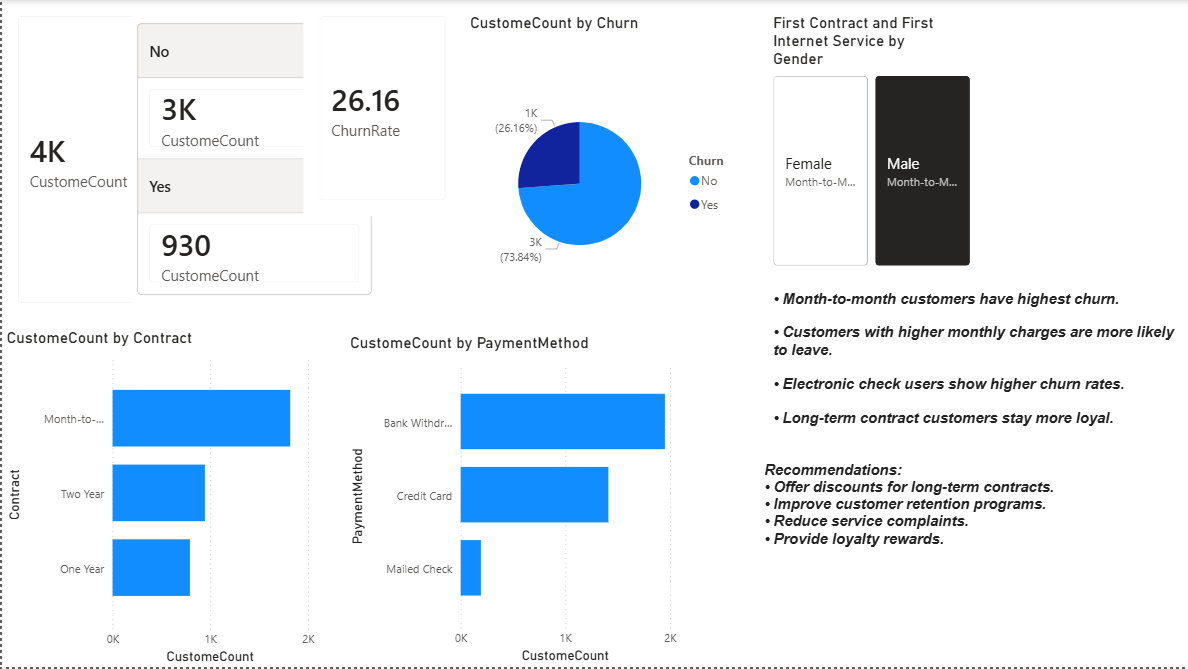

What the dashboard file says about the page in this screenshot:
{"tool":"powerbi","page":{"name":"Page 1","canvas":[1280,720],"ordinal":0},"visuals":[{"type":"cardVisual","fields":{"Data":["cleaned_churn_data.CustomeCount"]},"box":[0,0,280.1,344.9],"z":0},{"type":"cardVisual","fields":{"Data":["cleaned_churn_data.CustomeCount"],"Rows":["cleaned_churn_data.Churn"]},"box":[140.9,0,263.9,344.9],"z":1000},{"type":"cardVisual","fields":{"Data":["cleaned_churn_data.ChurnRate"]},"box":[325.5,0,170,233.2],"z":2000},{"type":"pieChart","fields":{"Category":["cleaned_churn_data.Churn"],"Y":["cleaned_churn_data.CustomeCount"]},"box":[500,14,304,346],"z":3000},{"type":"clusteredBarChart","fields":{"Category":["cleaned_churn_data.Contract"],"Y":["cleaned_churn_data.CustomeCount"]},"box":[0,354,342,366],"z":4000},{"type":"barChart","fields":{"Category":["cleaned_churn_data.PaymentMethod"],"Y":["cleaned_churn_data.CustomeCount"]},"box":[370,360,362,360],"z":5000},{"type":"advancedSlicerVisual","fields":{"Values":["cleaned_churn_data.Gender"],"Label":["Min(cleaned_churn_data.Contract)"]},"box":[828,14,222,278],"z":5001},{"type":"textbox","box":[828,308,452,184],"z":5002},{"type":"textbox","box":[818,492,462,124],"z":5003}]}

Visuals, with their boxes in screenshot pixels (x1, y1, x2, y2), scaled from the page's 1280x720 canvas onto the 1188x669 screenshot:
cardVisual - cleaned_churn_data.CustomeCount: detection(0, 0, 260, 320)
cardVisual - cleaned_churn_data.CustomeCount x cleaned_churn_data.Churn: detection(131, 0, 376, 320)
cardVisual - cleaned_churn_data.ChurnRate: detection(302, 0, 460, 217)
pieChart - cleaned_churn_data.Churn x cleaned_churn_data.CustomeCount: detection(464, 13, 746, 334)
clusteredBarChart - cleaned_churn_data.Contract x cleaned_churn_data.CustomeCount: detection(0, 329, 317, 668)
barChart - cleaned_churn_data.PaymentMethod x cleaned_churn_data.CustomeCount: detection(343, 334, 679, 668)
advancedSlicerVisual - cleaned_churn_data.Gender x Min(cleaned_churn_data.Contract): detection(768, 13, 975, 271)
textbox: detection(768, 286, 1187, 457)
textbox: detection(759, 457, 1187, 572)
